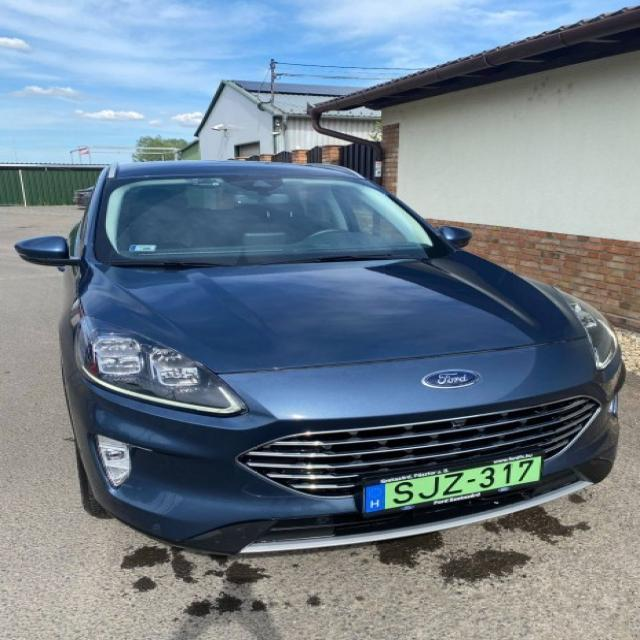licence: (357, 455, 543, 515)
